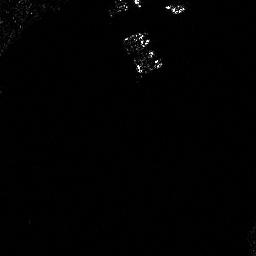ship: (137, 30, 163, 70)
